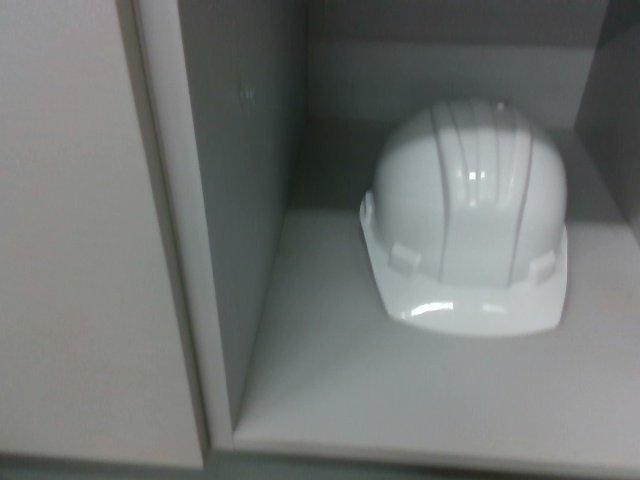helmet: (353, 89, 579, 338)
